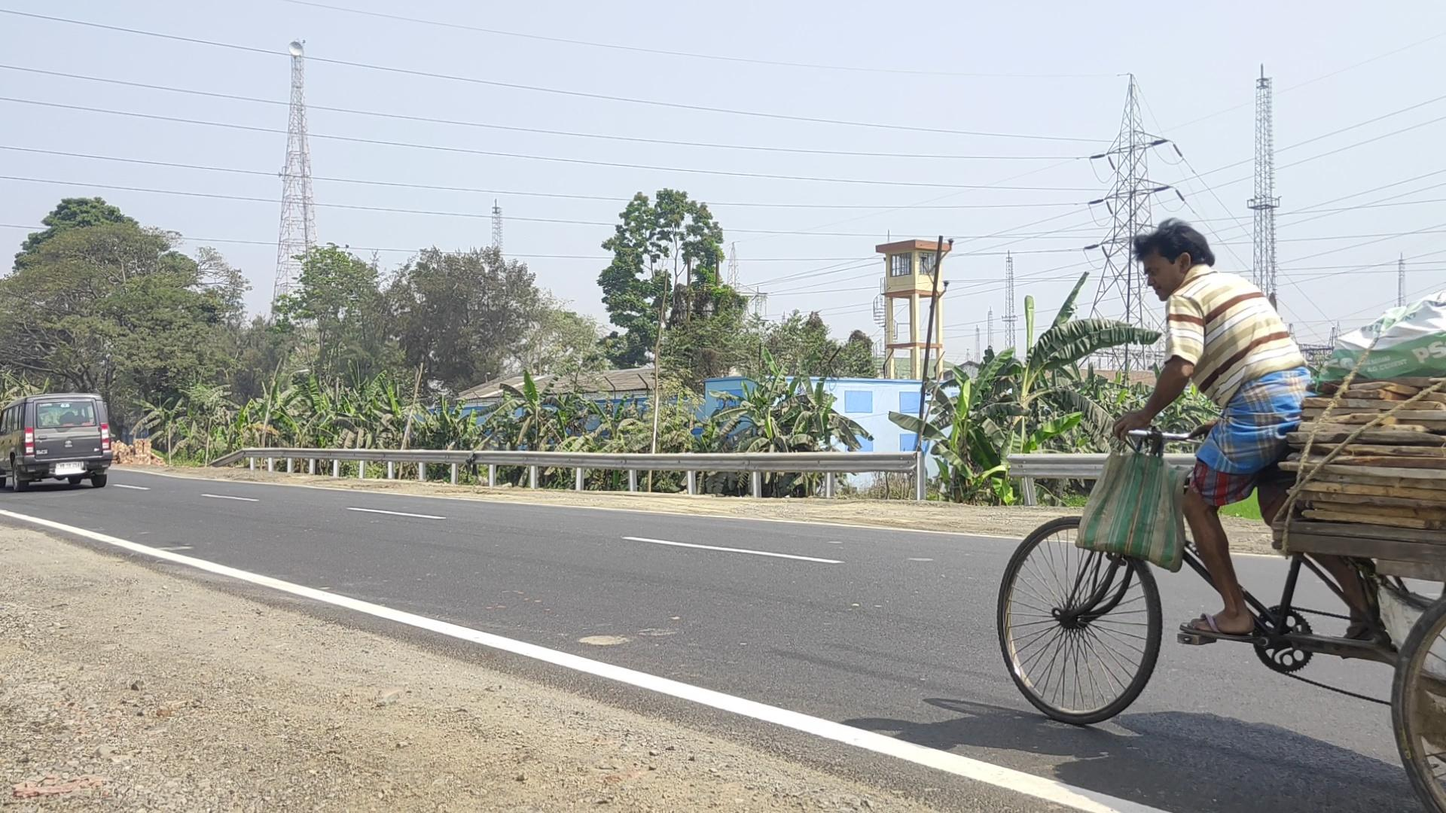car: (1, 393, 113, 492)
